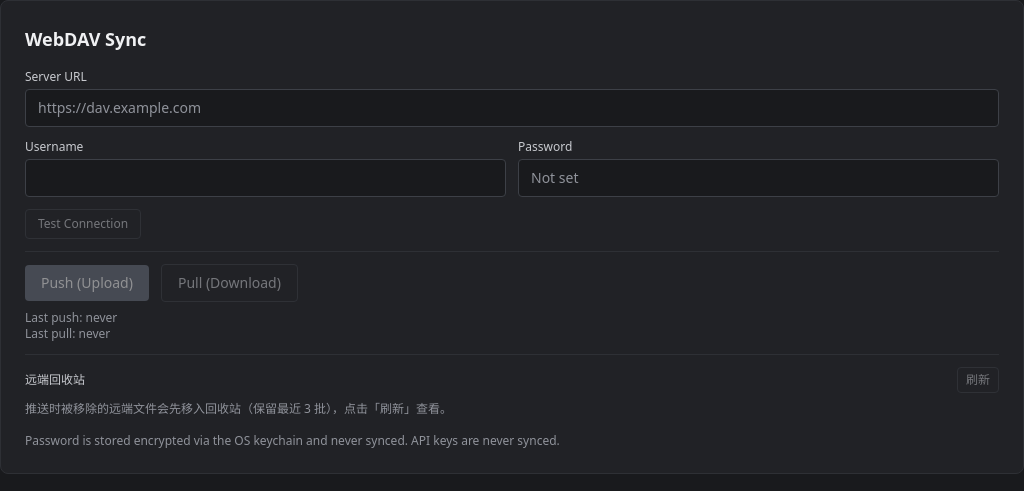
WebDavSyncView — remote trash › shows an empty trash and tolerates listing errors
Type "https://dav.example/dav" into the field with placeholder "https://dav.example.com".
click(512, 108); type("https://dav.example/dav")  # box [25,89,999,127]
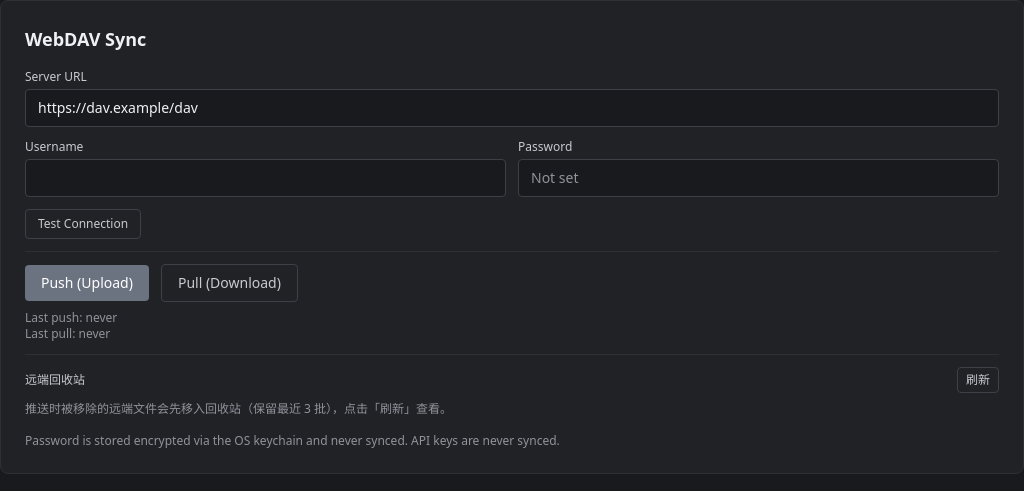
Click the button "刷新".
click(978, 380)  # box [957,367,999,393]
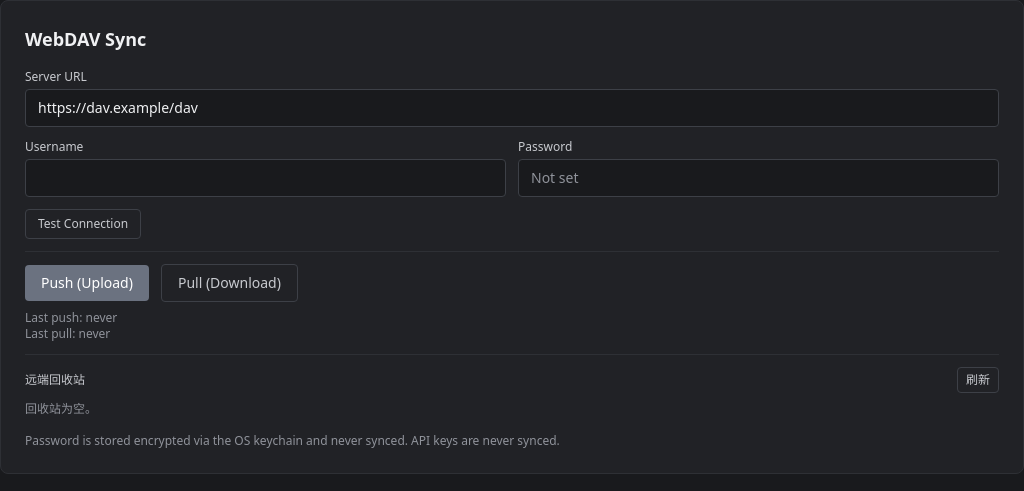
Check: the text "回收站为空。" is shown, box [25,400,97,417]
Click the button "刷新".
click(978, 380)  # box [957,367,999,393]
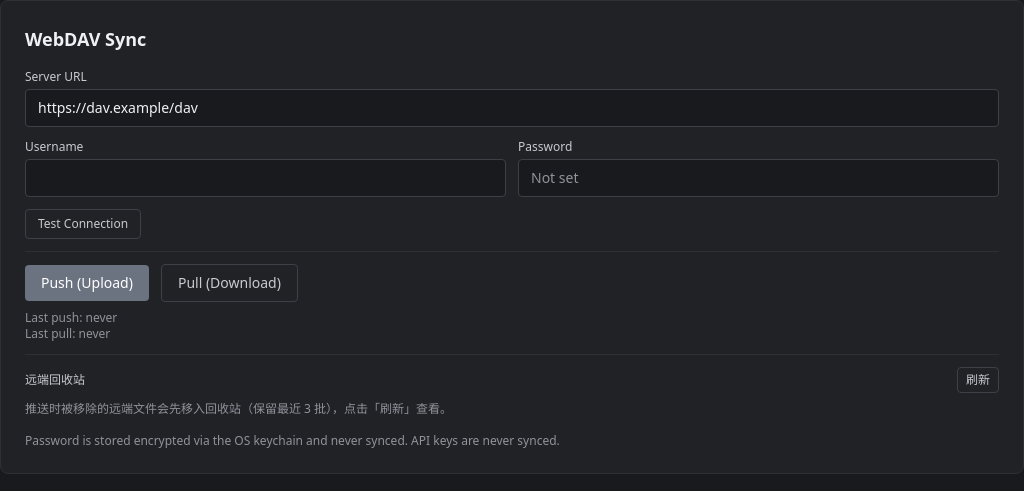
Check: the text "推送时被移除的远端文件会先移入回收站（保留最近 3 批），点击「刷新」查看。" is shown, box [25,400,452,417]
